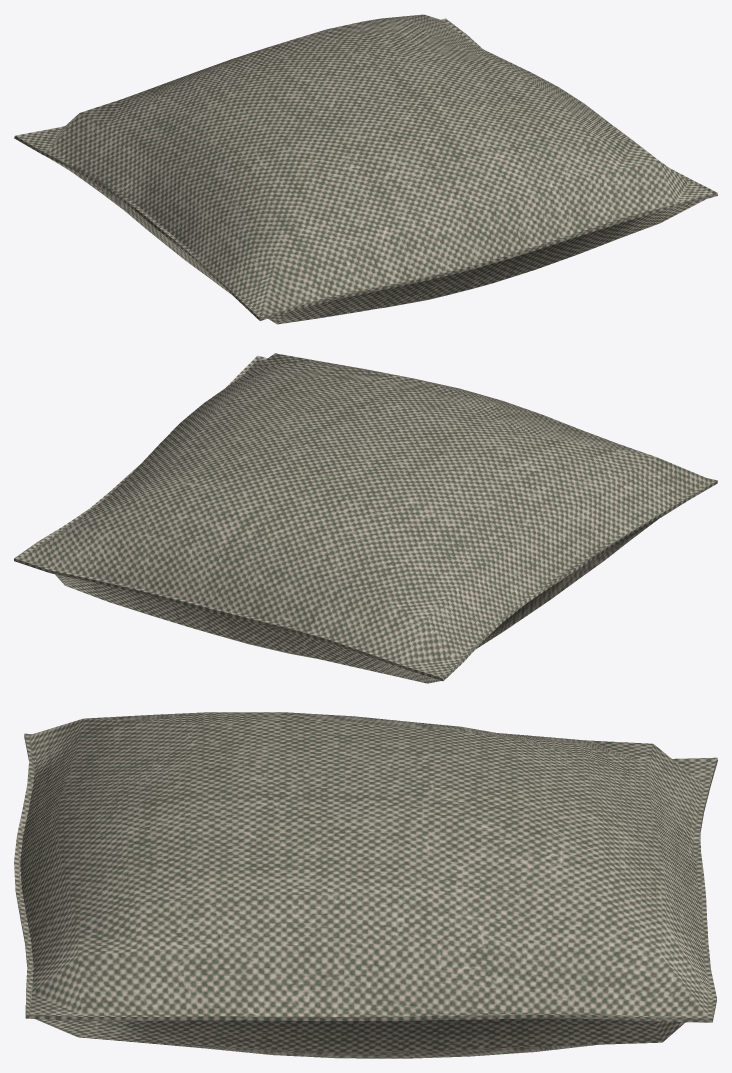
File: Pillows3.fbx
3 views of the same model, one above another, from view 1: azimuth 30°, elevation 25°; view 2: azimuth 150°, elevation 25°; view 3: azimuth 270°, elevation 25° (orthographic). The views are drawn at different scales.
Visible parts, largest first — view 1: Pillow.001; view 2: Pillow.001; view 3: Pillow.001.
Boxes of the visible parts, x1,y1,x2,y2 form: Pillow.001: (14,14,717,324); Pillow.001: (14,353,717,683); Pillow.001: (14,712,717,1058).
Size of the model in its own units: 60.08 by 21.02 by 59.85.
1 material, 1 textured.
